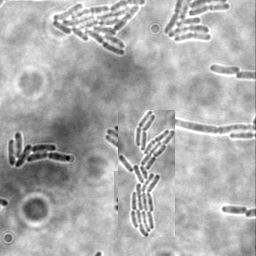Dividing: (176, 114, 255, 133), (221, 204, 248, 215)
Microcolony: (118, 110, 175, 237), (51, 1, 147, 56), (162, 1, 231, 44), (114, 171, 169, 216), (8, 130, 72, 167), (208, 63, 240, 74)
